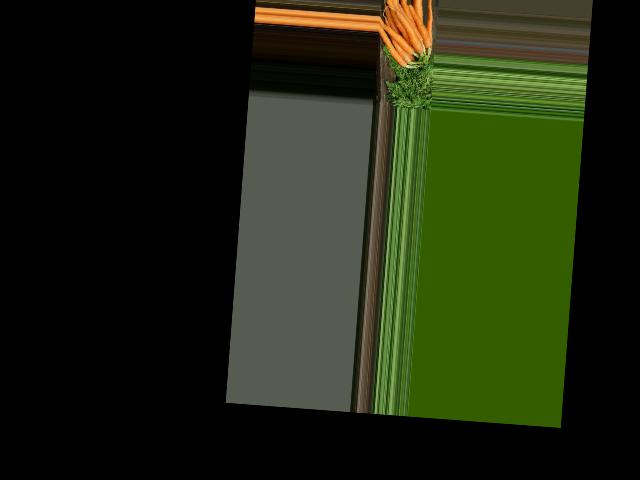carrot: (403, 3, 435, 49)
